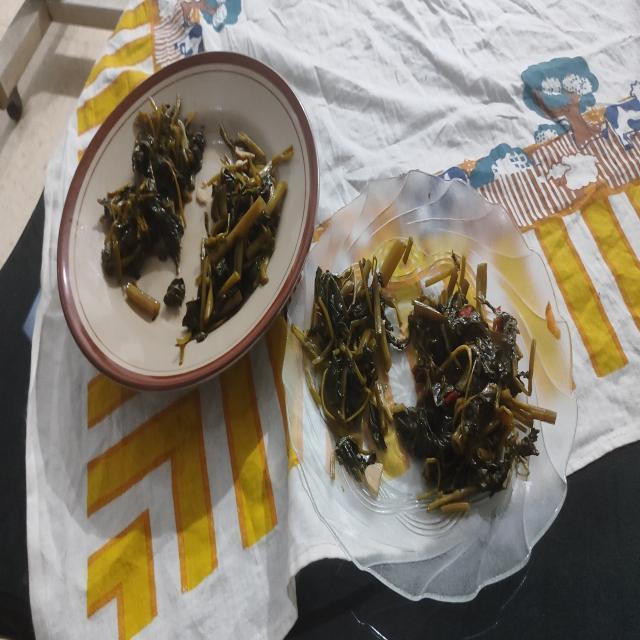tumis_kangkung: (408, 252, 556, 514), (296, 238, 413, 482), (176, 126, 294, 355), (98, 94, 205, 320)
